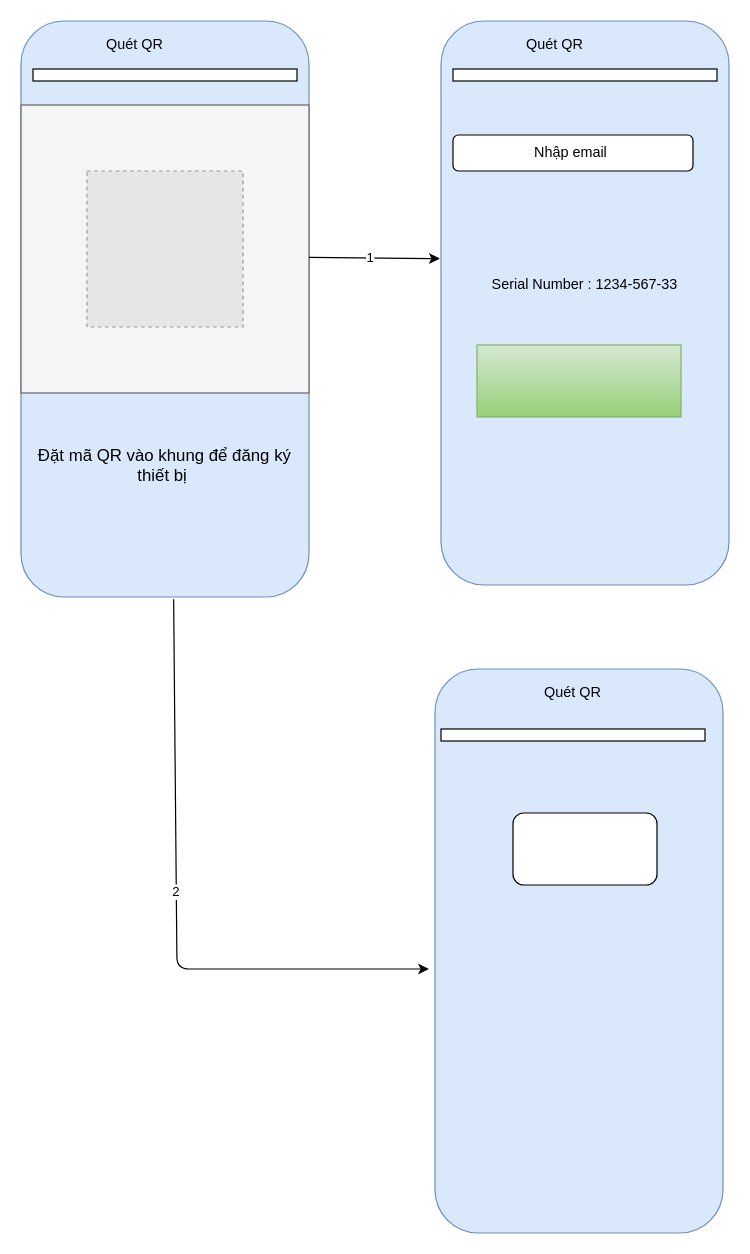
Image size: 750x1254. Some labels were removed from this diagram. Grey dashed boxes stand in for pictures. The shapes that lost their labels are listed below. From the top down, each one's centre as x and y in pixels, then its label:
At point 578,380: "Đăng Ký".
At point 584,848: "Serial Number : 1234-567-33 đã được đăng kí".
